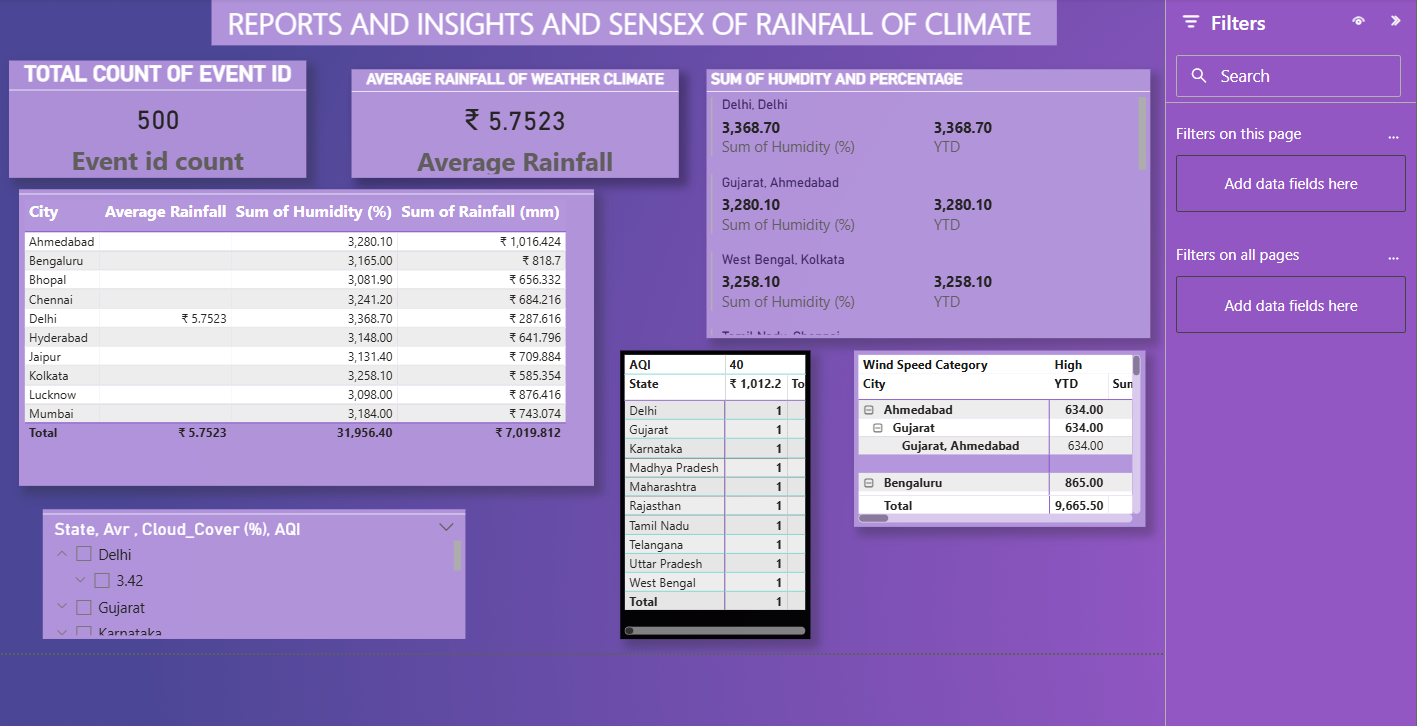

What the dashboard file says about the page in this screenshot:
{"tool":"powerbi","page":{"name":"REPORTS AND INSIGHTS SENSEX OF RAINFALL CLIMATE","canvas":[1280,720],"ordinal":7},"visuals":[{"type":"textbox","box":[233.3,0,927.6,52.1],"z":0},{"type":"card","title":"TOTAL COUNT OF EVENT ID ","fields":{"Values":["Event ID (NEW).Event id count"]},"box":[11,68.6,326.6,129],"z":1000},{"type":"card","title":"AVERAGE RAINFALL OF WEATHER CLIMATE","fields":{"Values":["Event ID (NEW).Average Rainfall"]},"box":[387,78.2,359.5,119.4],"z":2000},{"type":"multiRowCard","title":"SUM OF HUMDITY AND PERCENTAGE ","fields":{"Values":["Sum(Event ID (NEW).Humidity (%))","Event ID (NEW).Place","Event ID (NEW).YTD"]},"box":[776.7,78.2,487.1,295],"z":3000},{"type":"tableEx","fields":{"Values":["Event ID (NEW).City","Event ID (NEW).Average Rainfall","Sum(Event ID (NEW).Humidity (%))","Sum(Event ID (NEW).Rainfall (mm))"]},"box":[22,209.9,631.2,325.2],"z":4000},{"type":"pivotTable","fields":{"Rows":["Event ID (NEW).City","Event ID (NEW).State","Event ID (NEW).Place"],"Values":["Event ID (NEW).YTD","Sum(Event ID (NEW).Temperature_Min (Â°C))"],"Columns":["Event ID (NEW).Wind Speed Category "]},"box":[938.6,387,319.7,193.5],"z":5000},{"type":"pivotTable","fields":{"Values":["Event ID (NEW).Rank Sec"],"Rows":["avr rainnfall.State"],"Columns":["Event ID (NEW).AQI","Event ID (NEW).Pressure (hPa)"]},"box":[682,387,208.6,317],"z":6000},{"type":"slicer","fields":{"Values":["avr rainnfall.State","avr rainnfall.Avr ","Event ID (NEW).Cloud_Cover (%)","Event ID (NEW).AQI"]},"box":[48,561.2,463.8,142.7],"z":7000}]}

Visuals, with their boxes on the page's 1280x720 design canvas (x1, y1, x2, y2). These are canvas units, not pixel positions in the 1417x726 screenshot, which may show the page scaled, cropped or inside an application window:
textbox: (233,0,1161,52)
"TOTAL COUNT OF EVENT ID " card: (11,69,338,198)
"AVERAGE RAINFALL OF WEATHER CLIMATE" card: (387,78,746,198)
"SUM OF HUMDITY AND PERCENTAGE " multiRowCard: (777,78,1264,373)
tableEx - Event ID (NEW).City x Event ID (NEW).Average Rainfall: (22,210,653,535)
pivotTable - Event ID (NEW).City x Event ID (NEW).State: (939,387,1258,580)
pivotTable - Event ID (NEW).Rank Sec x avr rainnfall.State: (682,387,891,704)
slicer - avr rainnfall.State x avr rainnfall.Avr : (48,561,512,704)
